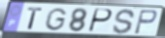8: (67, 7, 89, 34)
G: (43, 7, 68, 32)
P: (87, 8, 114, 34), (133, 9, 158, 36)
S: (111, 8, 137, 35)
T: (26, 7, 44, 31)
